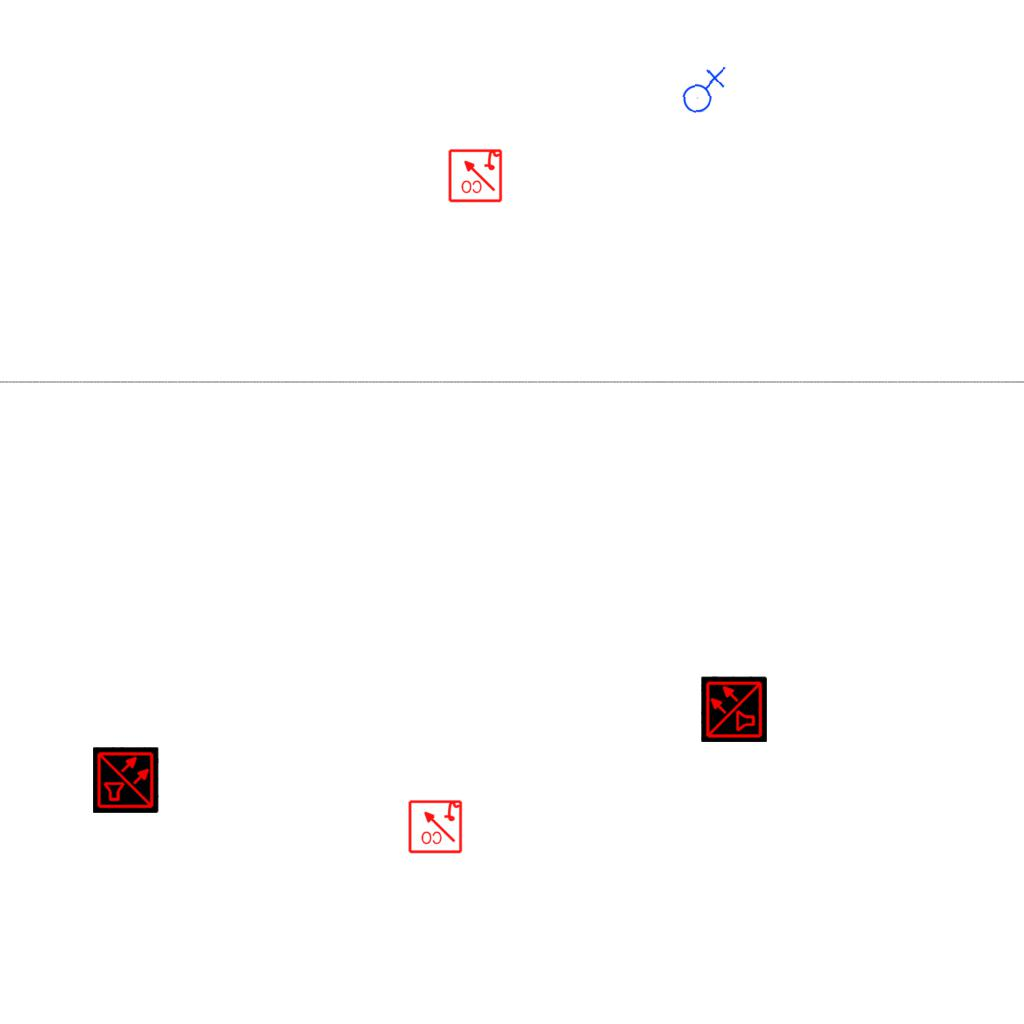Elektroanschluss_allgemein_230V_Geraeteanschlussdose_230V: (676, 64, 729, 115)
OKW_Multisensormelder_(Kombination_optischer_Rauch-Kahlenmonoxid_Waerme-Melder): (93, 747, 159, 813), (701, 676, 767, 742)
ROA_Rauchmelder_optisch_mit_Signalgeber_(Sockelsirene): (447, 147, 503, 203), (407, 798, 463, 854)
